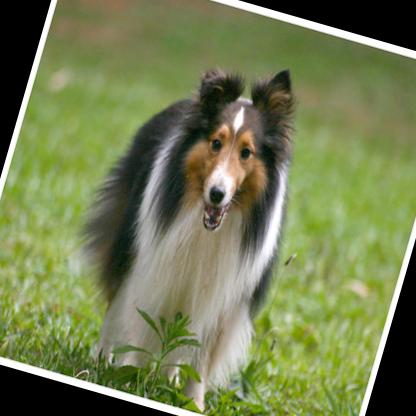Shetland_sheepdog: (30, 19, 337, 416)
